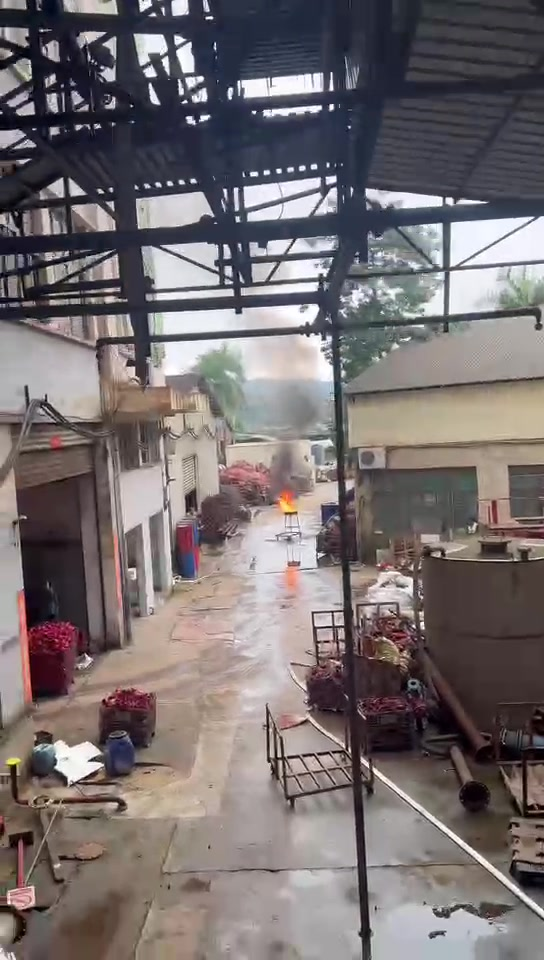fire: (288, 481, 303, 507)
